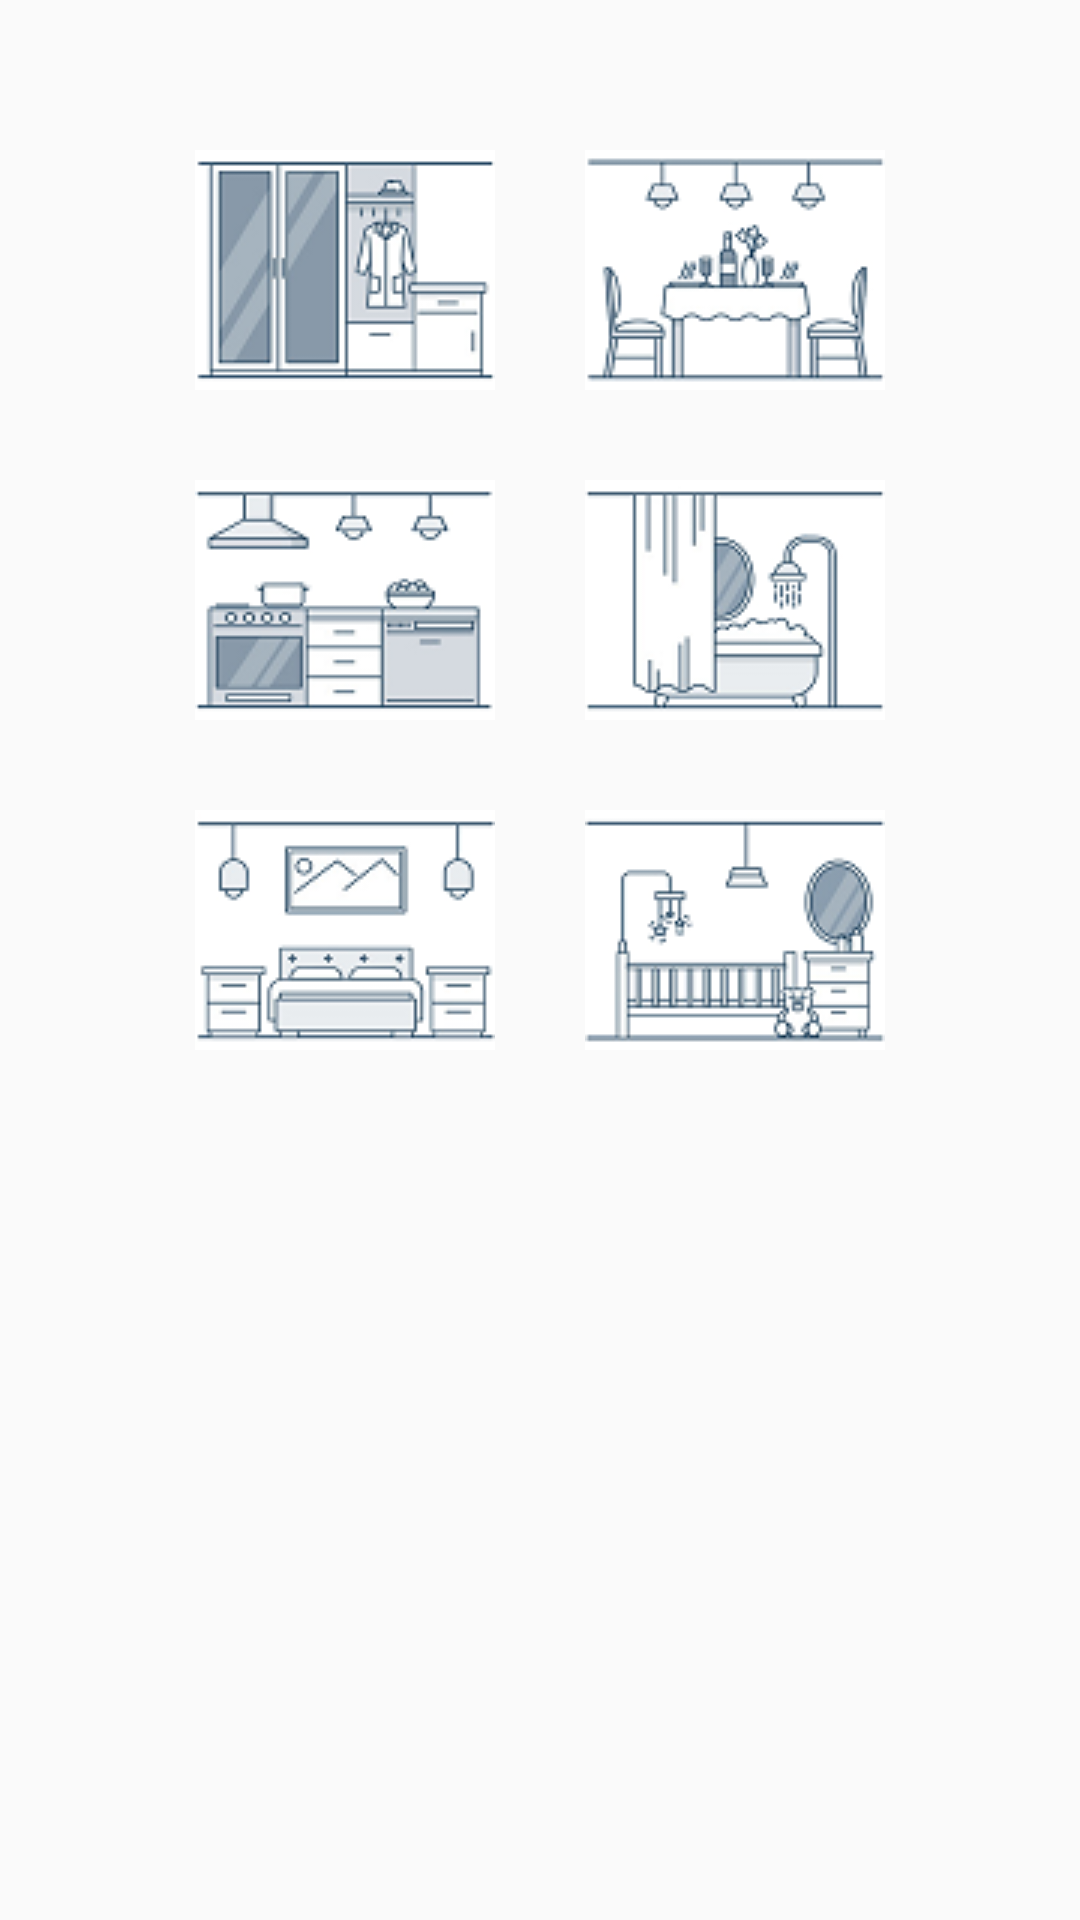

Icon click points for this 1080 × 1920 phone screenshot, format (x,y):
bath room: (735,600)
bed room: (346,930)
childrens room: (735,931)
hallway: (346,270)
kitchen: (344,600)
